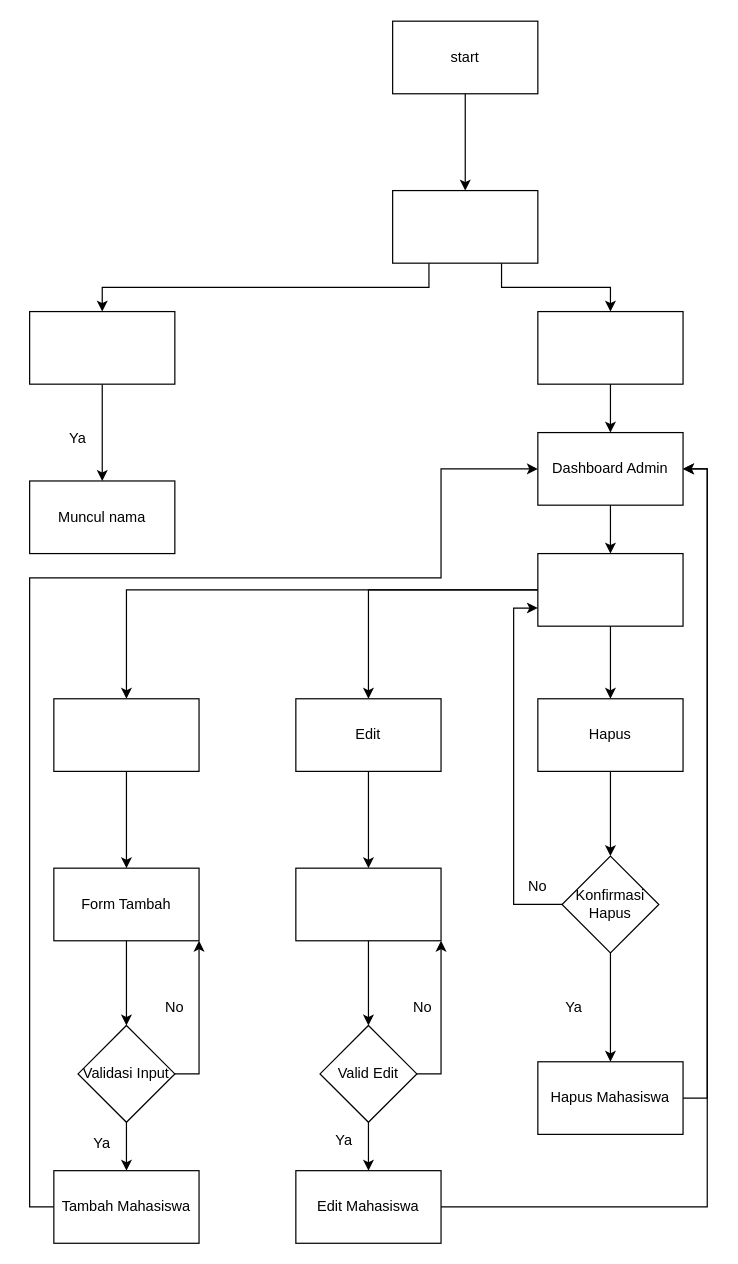
Some shapes in this 738 by 1264 pixel diagram are drawn without their labels. Each missing label, with the centre of its shape:
Cari Nama: the point at 101,347
Dashboard user: the point at 464,226
Form Edit: the point at 368,904
Tabel Mahasiswa: the point at 610,589
Tambah: the point at 126,734
Tombol Admin: the point at 610,347
